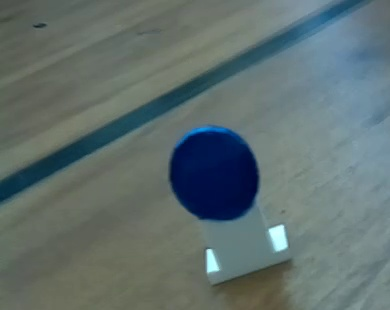circle: (157, 117, 303, 293)
